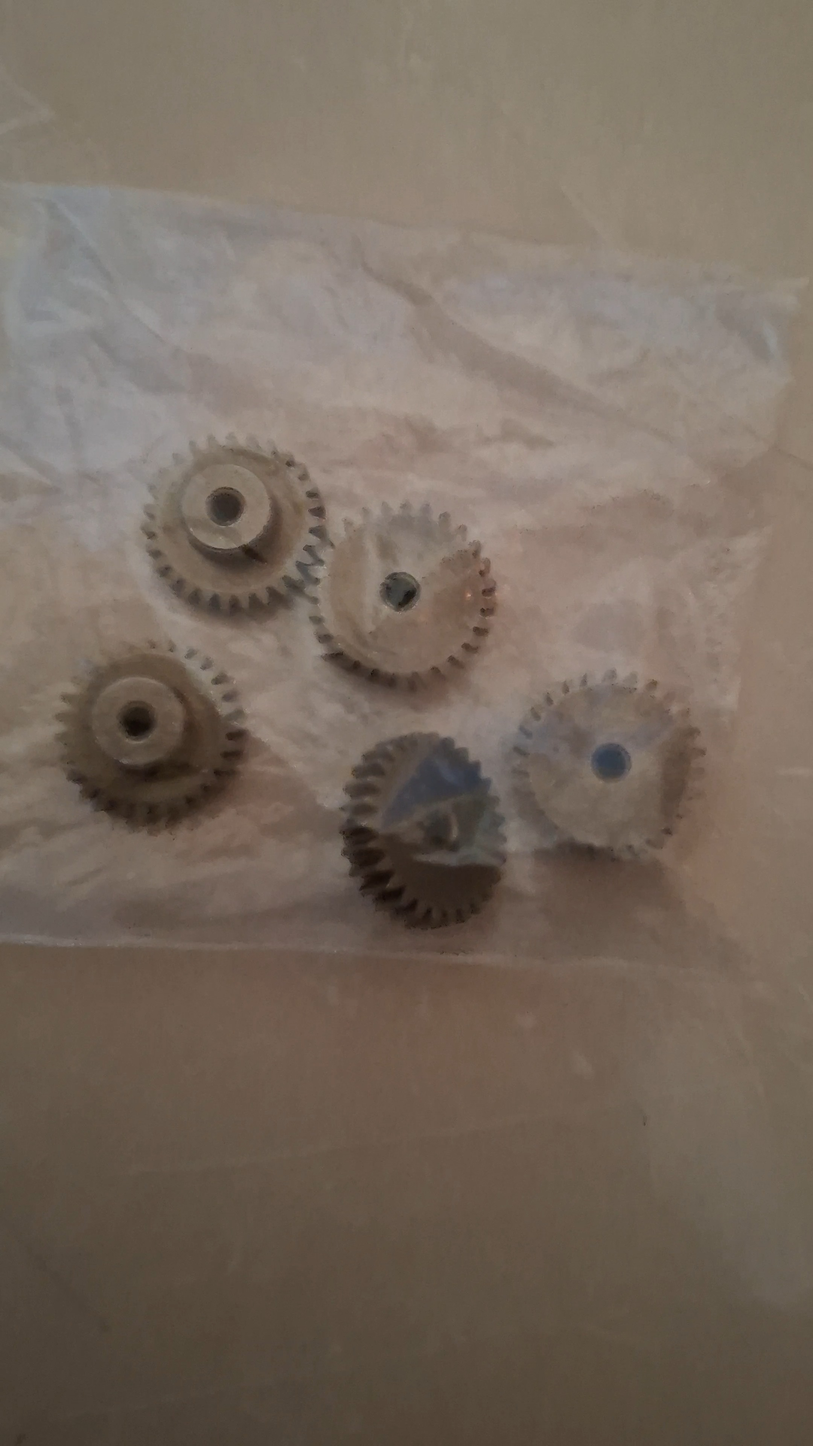spur gear: (515, 672, 704, 856), (309, 503, 495, 685), (58, 644, 244, 825), (143, 437, 326, 610), (342, 733, 504, 927)
